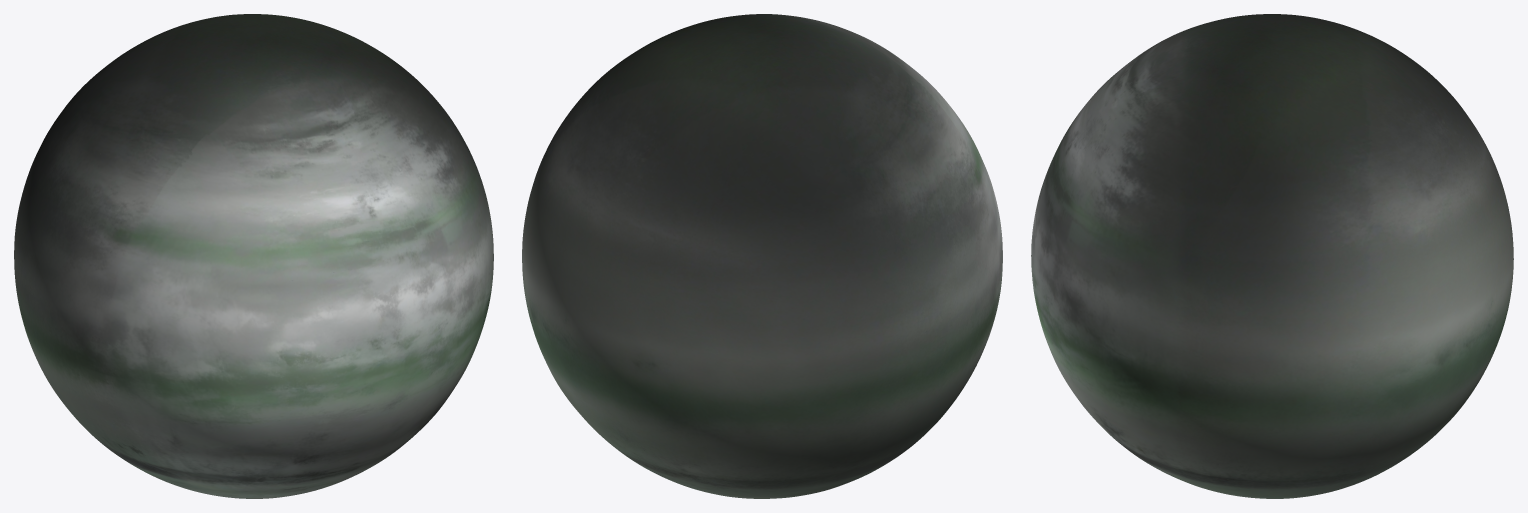
The model's file is toi_0920040012.glb.
3 renders of one model, left to right at view 1: azimuth 30°, elevation 25°; view 2: azimuth 150°, elevation 25°; view 3: azimuth 270°, elevation 25°, orthographic.
Size of the model in its own units: 1.77 by 1.79 by 1.78.
Materials: 1 (1 with a texture image).
